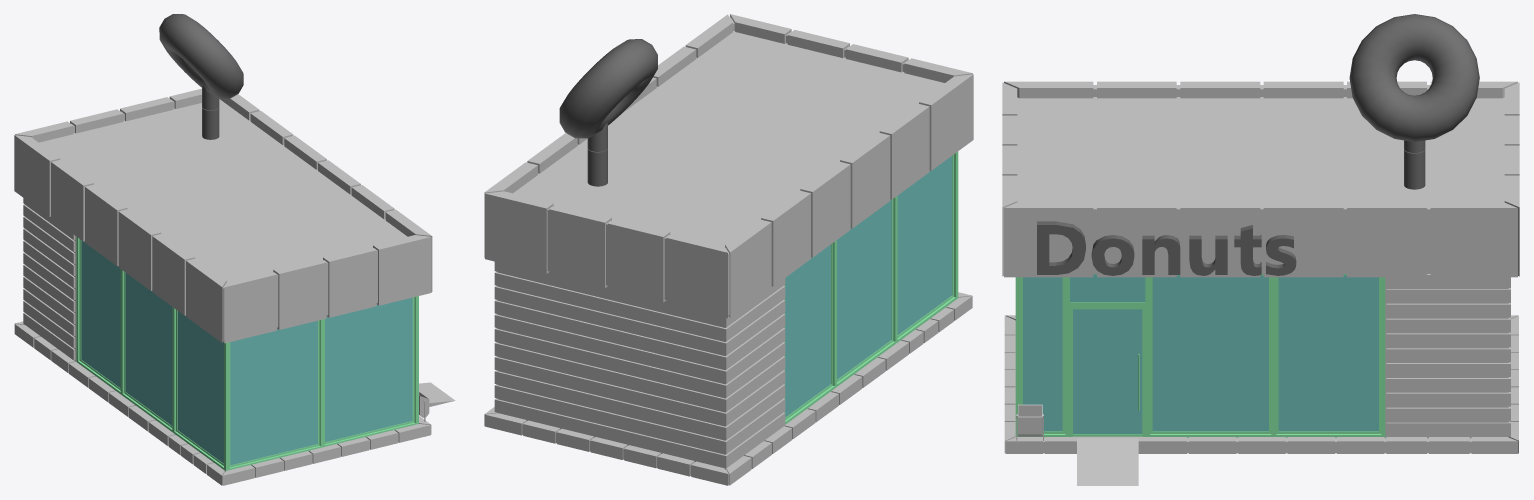
File: Donut.fbx
The picture shows the model from 3 angles, left to right: view 1: azimuth 30°, elevation 25°; view 2: azimuth 150°, elevation 25°; view 3: azimuth 270°, elevation 25°; orthographic projection. The views are drawn at different scales.
Visible parts, largest first — view 1: Caffee_donut, Donut; view 2: Caffee_donut, Donut; view 3: Caffee_donut, Donut, Caffee_door.
Part boxes in pixels (bbox=[...]): Caffee_donut: bbox=[14, 88, 455, 485]; Donut: bbox=[159, 14, 243, 110]; Caffee_donut: bbox=[484, 14, 973, 485]; Donut: bbox=[559, 39, 657, 151]; Caffee_donut: bbox=[1002, 81, 1519, 485]; Donut: bbox=[1349, 14, 1479, 152]; Caffee_door: bbox=[1072, 309, 1142, 436].
Size of the model in its own units: 608 by 696 by 839.
